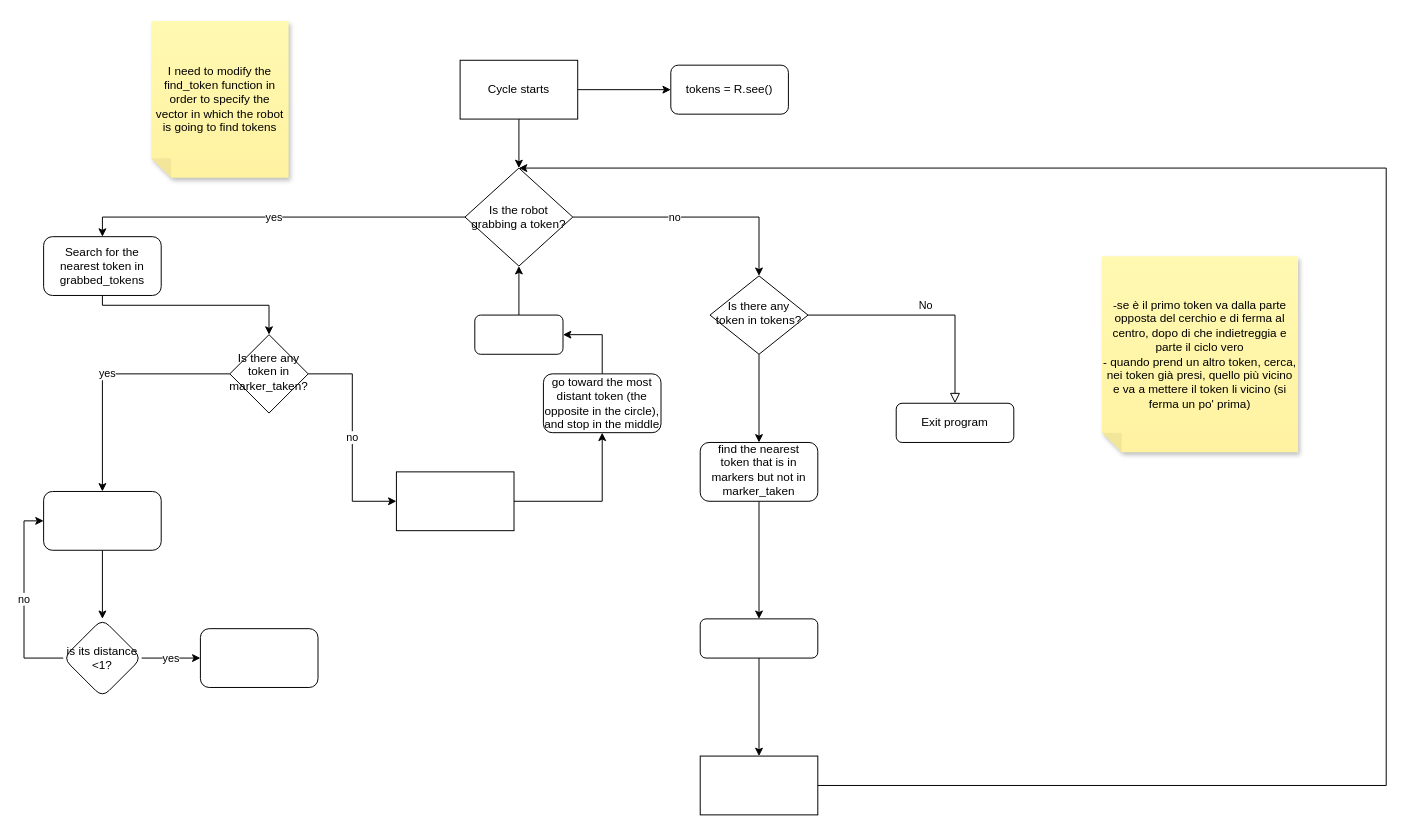
The diagram is 1411 pixels wide and 832 high, and some of its shapes have lost their labels. The shapes that lost their labels are listed below. From the top down, each one's centre as x and y in pixels, then its label:
At point (518, 334): "ungrab token".
At point (102, 520): "Go on it".
At point (454, 501): "Run starting cycle".
At point (258, 657): "Ungrab it and add item to marker_taken".
At point (758, 638): "go to take it".
At point (758, 785): "when it is sufficiently near, grab it".
